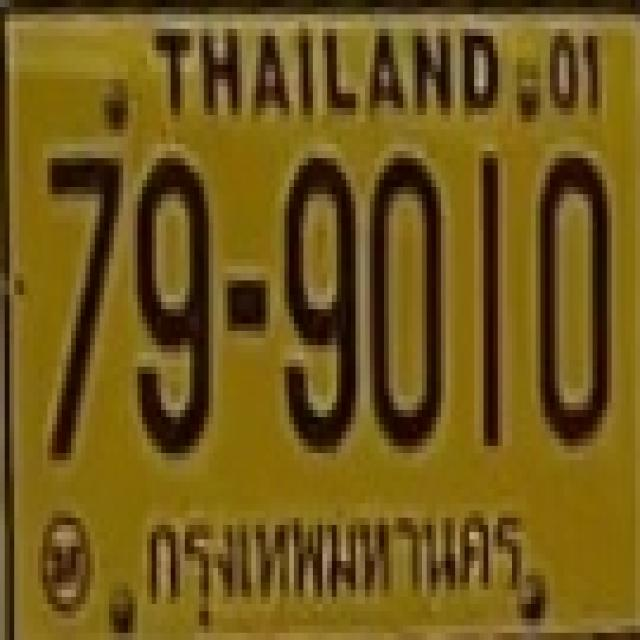0: (365, 151, 441, 446), (536, 151, 607, 439)
1: (481, 151, 500, 446)
7: (43, 151, 119, 453)
9: (132, 154, 208, 450), (280, 151, 356, 446)
BKK: (139, 501, 530, 625)
